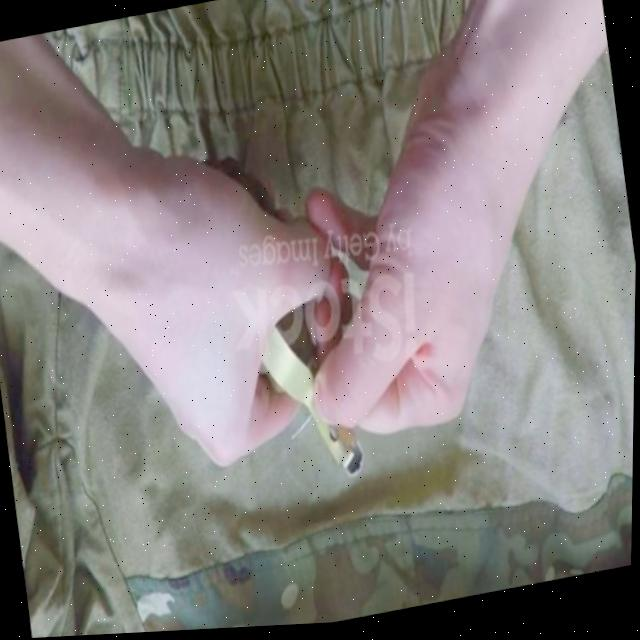grenade: (189, 147, 395, 503)
